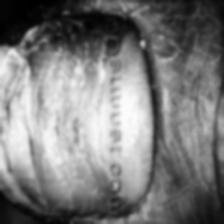Toxin: (0, 0, 106, 220)
